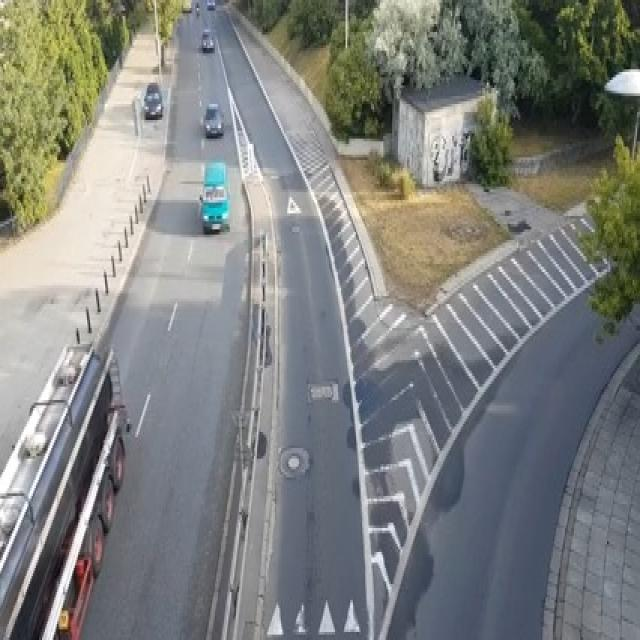car: (198, 160, 230, 232), (201, 101, 224, 136), (143, 83, 162, 117), (202, 27, 214, 50), (182, 0, 191, 11), (206, 0, 215, 8), (196, 0, 198, 16)
truck: (0, 339, 129, 637)
